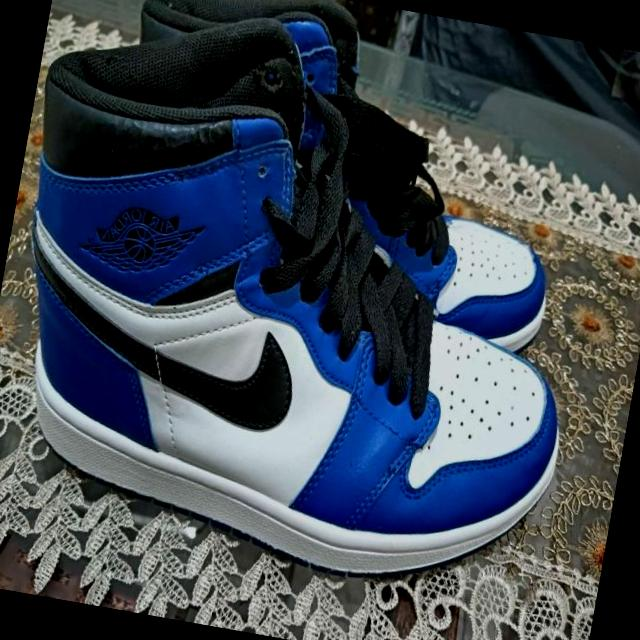nike_fake_jordan: (0, 0, 622, 611), (87, 0, 594, 358)
